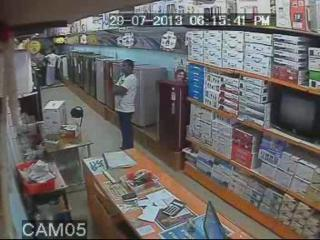Normal: (270, 88, 320, 146), (111, 59, 138, 151)
